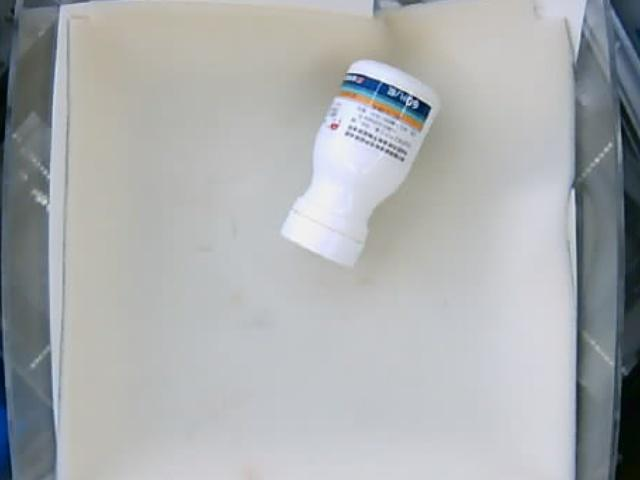Bottle: (280, 58, 439, 266)
